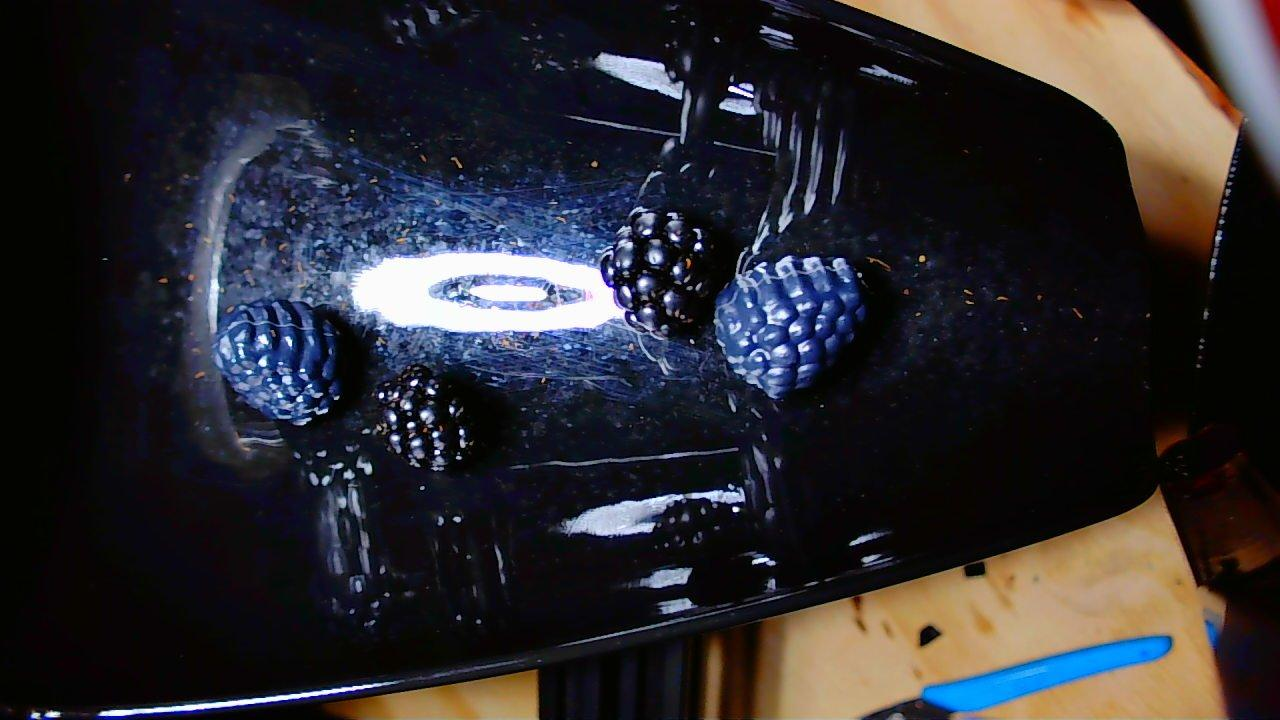berry: (714, 256, 866, 399), (215, 299, 344, 424), (600, 208, 722, 338), (377, 364, 482, 471)
